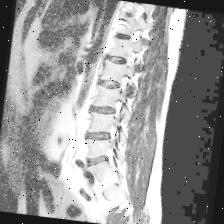disc: (93, 74, 127, 94), (102, 48, 132, 68), (110, 29, 138, 44)
hdisc: (86, 100, 119, 122), (82, 128, 114, 148), (82, 152, 114, 170)
